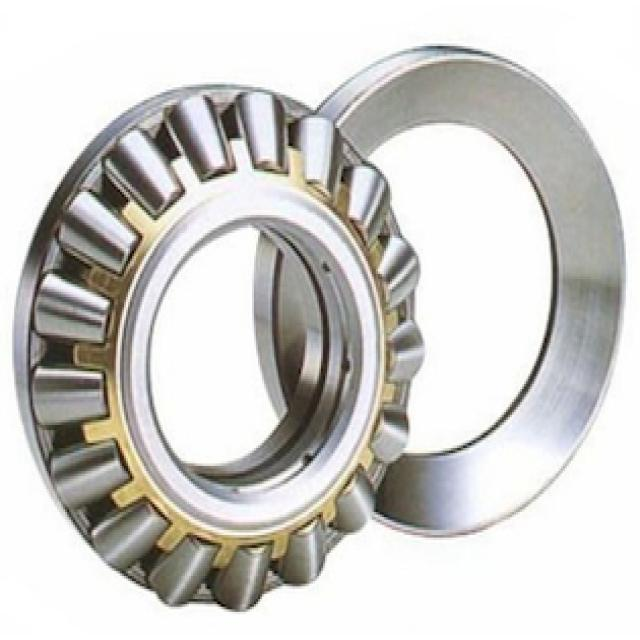Bearing: (12, 78, 424, 616)
